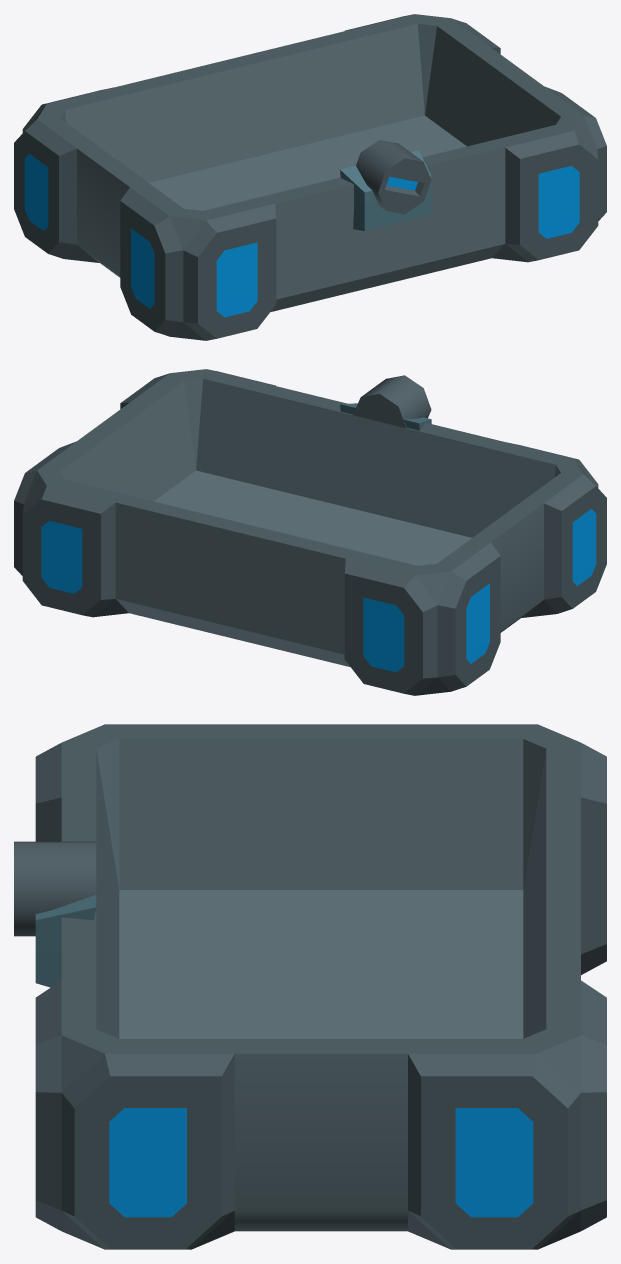
The model's file is Crate_001.fbx.
3 views of the same model, one above another, from view 1: azimuth 30°, elevation 25°; view 2: azimuth 150°, elevation 25°; view 3: azimuth 270°, elevation 25° (orthographic). The views are drawn at different scales.
Visible parts, largest first — view 1: Crate_001; view 2: Crate_001; view 3: Crate_001.
Boxes of the visible parts, x1=… form: Crate_001: x1=14, y1=14, x2=606, y2=340; Crate_001: x1=14, y1=369, x2=606, y2=695; Crate_001: x1=14, y1=724, x2=606, y2=1249.
Bounding box in the file's own units: 96 × 68.5 × 30.82.
